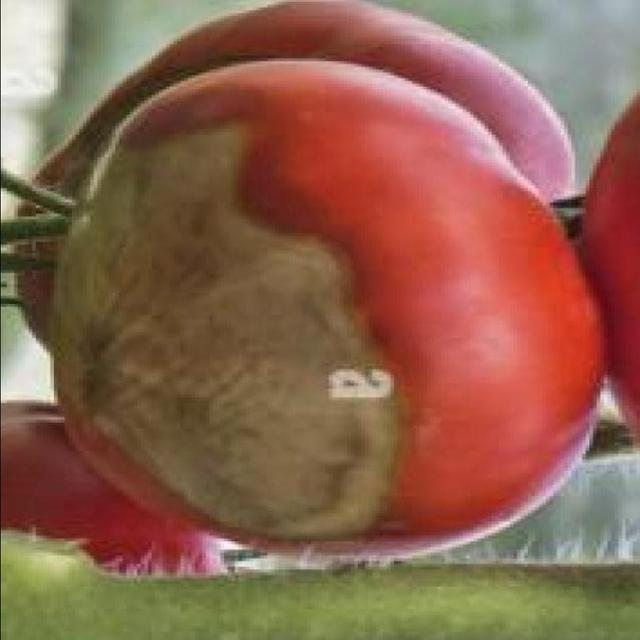Blossom End Rot Fruit: (44, 65, 245, 367)
